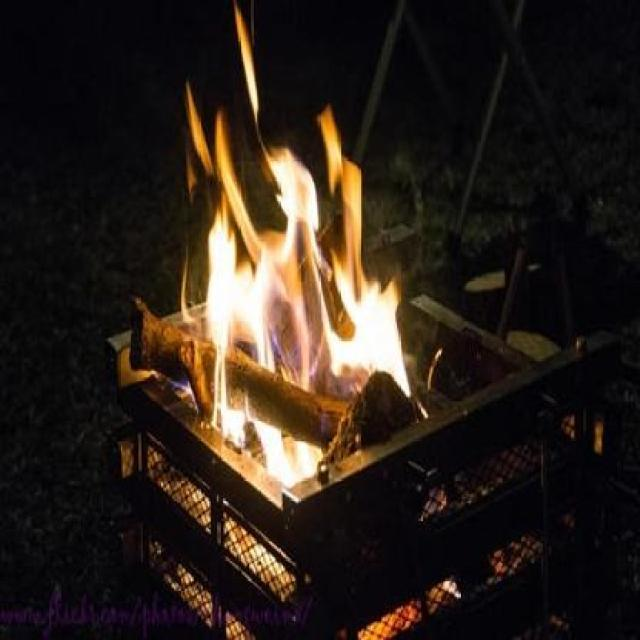Fire: (140, 0, 417, 501), (152, 506, 477, 640)
